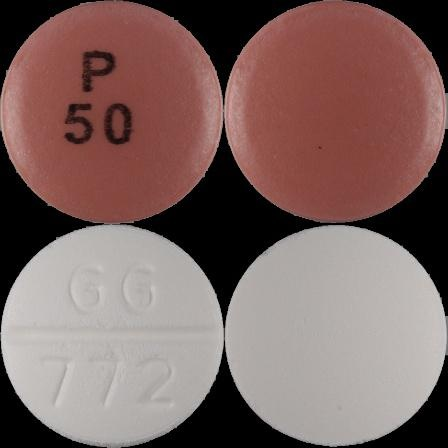68788-9175: (0, 0, 224, 224)
